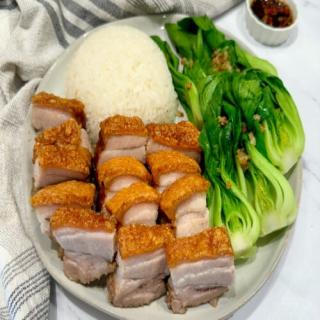carbs: (75, 30, 172, 121)
crispy_pork_rice: (32, 28, 306, 311)
meat: (36, 125, 204, 308), (203, 226, 232, 299), (31, 97, 86, 123)
veg: (171, 13, 299, 123), (203, 122, 303, 174), (213, 171, 297, 224), (232, 226, 256, 255)
